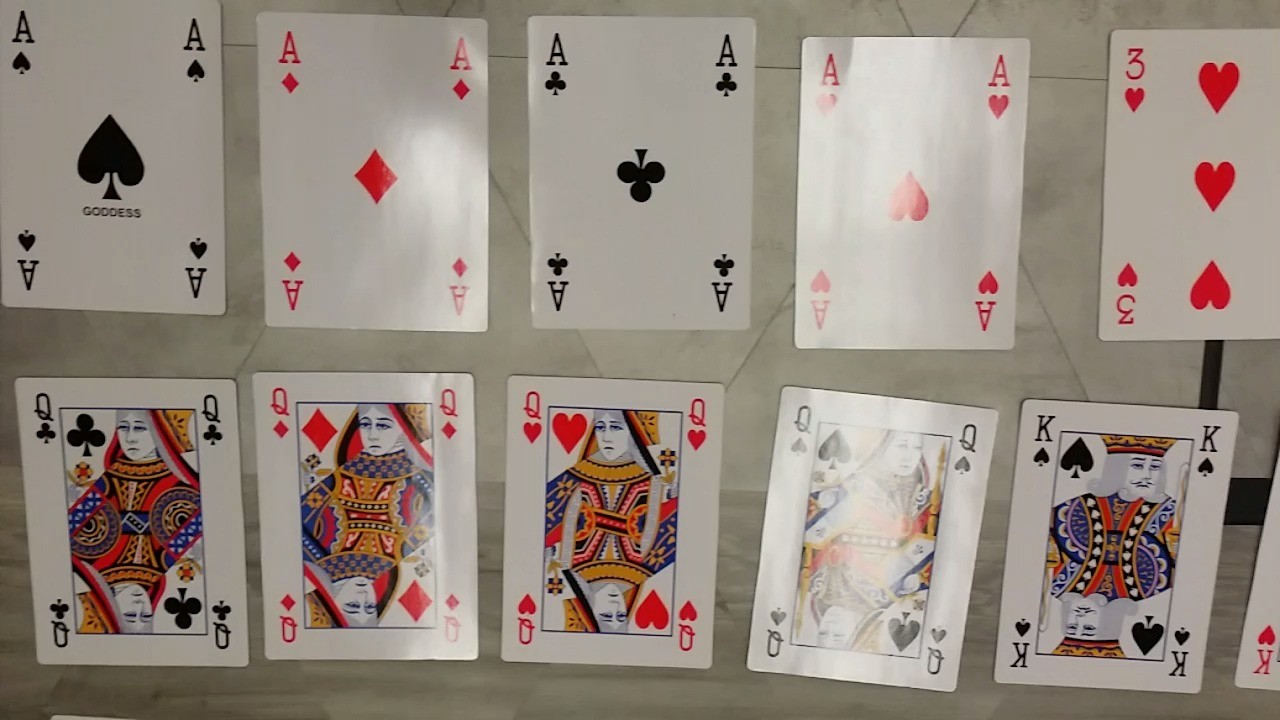1_club: (523, 12, 757, 330)
1_diamond: (254, 7, 491, 334)
1_heart: (795, 35, 1033, 349)
1_spade: (0, 0, 227, 318)
3_heart: (1089, 30, 1280, 345)
king_spade: (993, 395, 1241, 695)
queen_club: (11, 374, 251, 668)
queen_diamond: (251, 368, 482, 659)
queen_heart: (493, 367, 730, 668)
queen_spade: (733, 377, 1002, 695)
